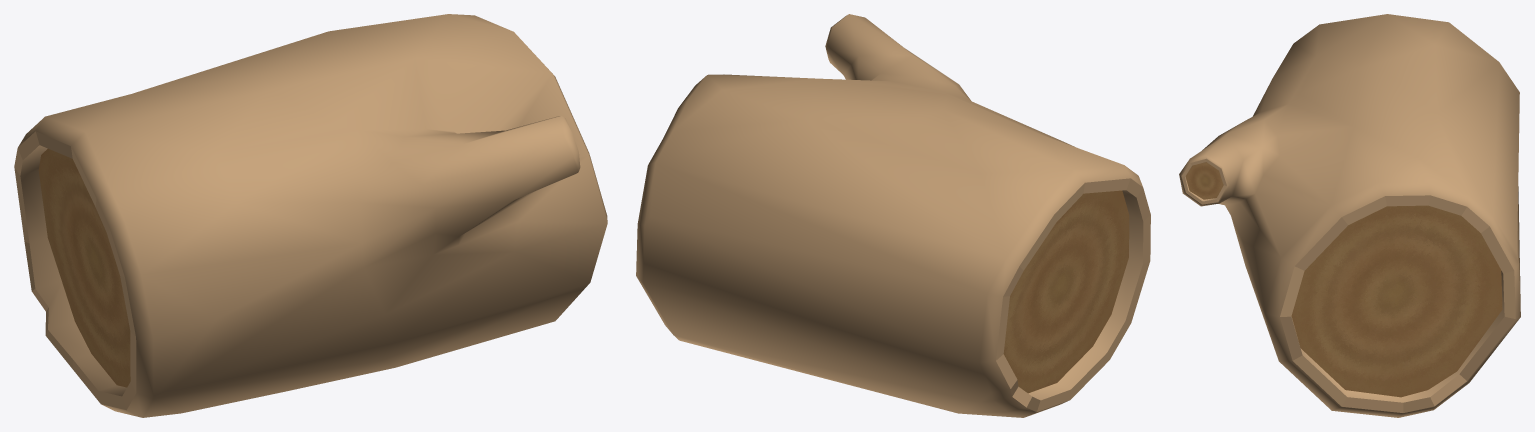
File: Log_2.fbx
3 views of the same model, side by side, from view 1: azimuth 30°, elevation 25°; view 2: azimuth 150°, elevation 25°; view 3: azimuth 270°, elevation 25° (orthographic). The views are drawn at different scales.
Visible parts, largest first — view 1: Icosphere.035; view 2: Icosphere.035; view 3: Icosphere.035.
Part boxes in pixels (x1,y1,x2,y2): Icosphere.035: (14, 14, 607, 417); Icosphere.035: (636, 14, 1150, 417); Icosphere.035: (1179, 14, 1520, 417).
Bounding box in the file's own units: 93.07 × 55.56 × 69.4.
